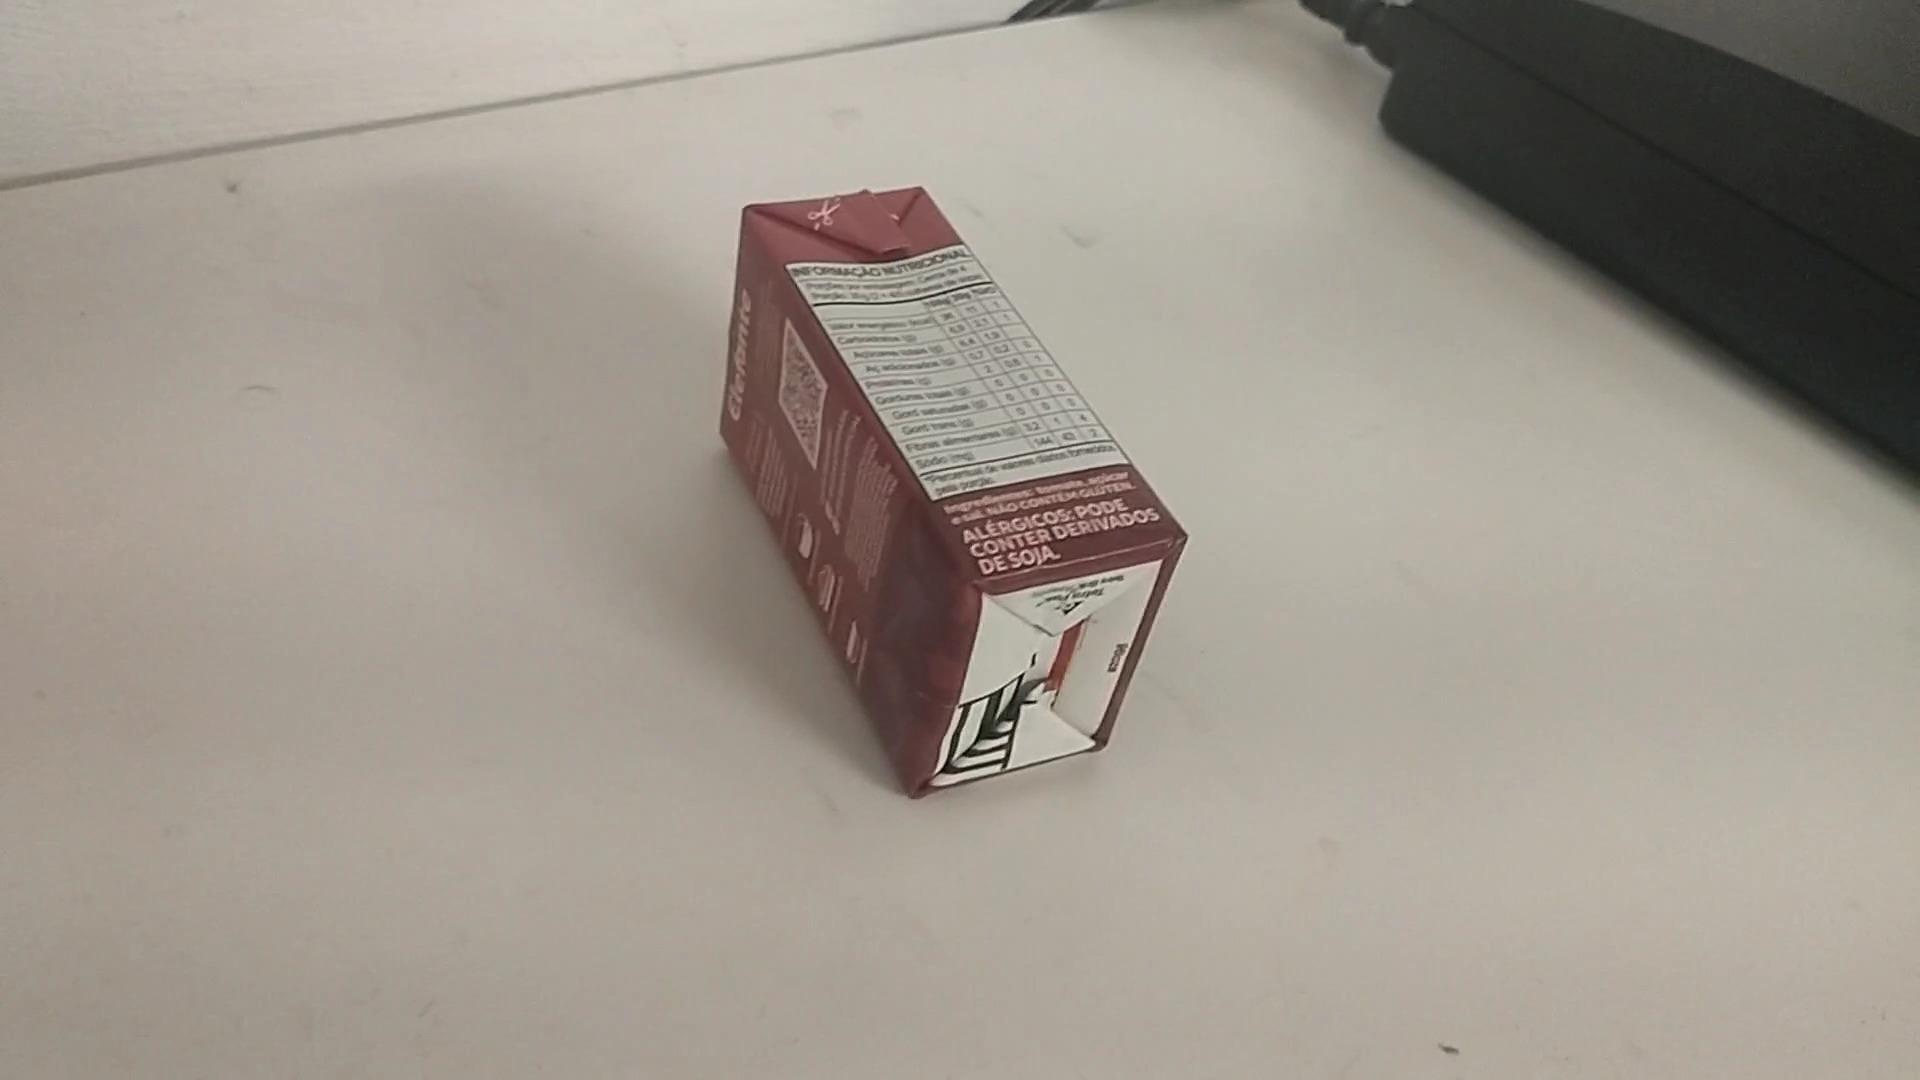tomate: (727, 195, 1182, 799)
